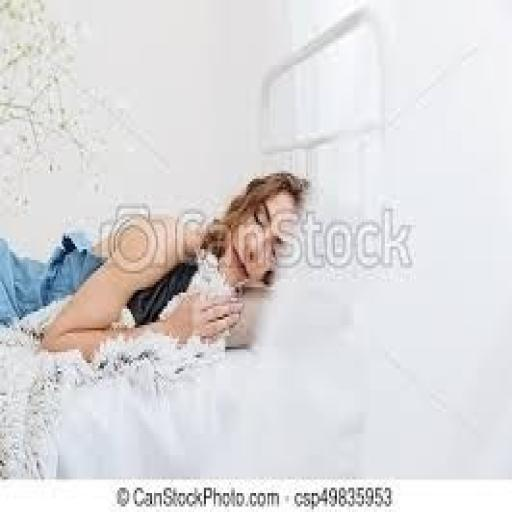sleeping: (0, 168, 310, 366)
